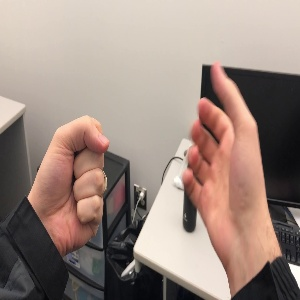hand: (183, 63, 272, 240), (34, 114, 110, 244)
